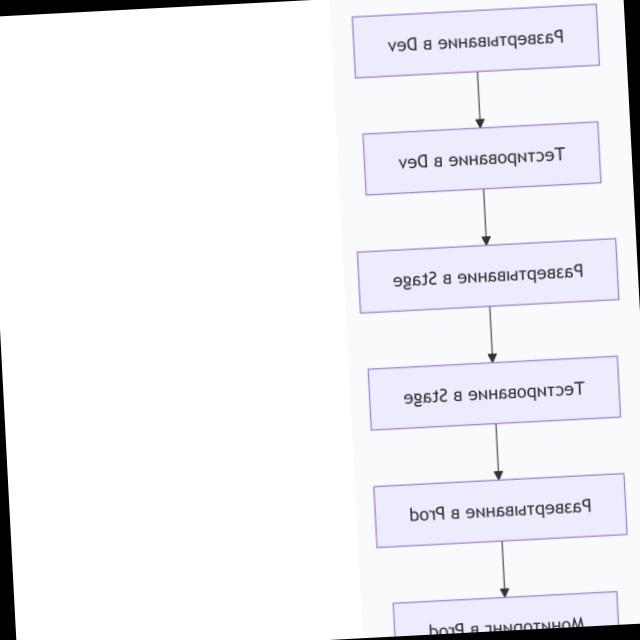arrow: (476, 190, 494, 246), (482, 307, 500, 363), (488, 425, 506, 481), (496, 542, 514, 598), (472, 72, 486, 130)
rectangle: (354, 236, 621, 316), (365, 352, 623, 432), (371, 470, 629, 550), (350, 2, 602, 81), (361, 120, 604, 198)
